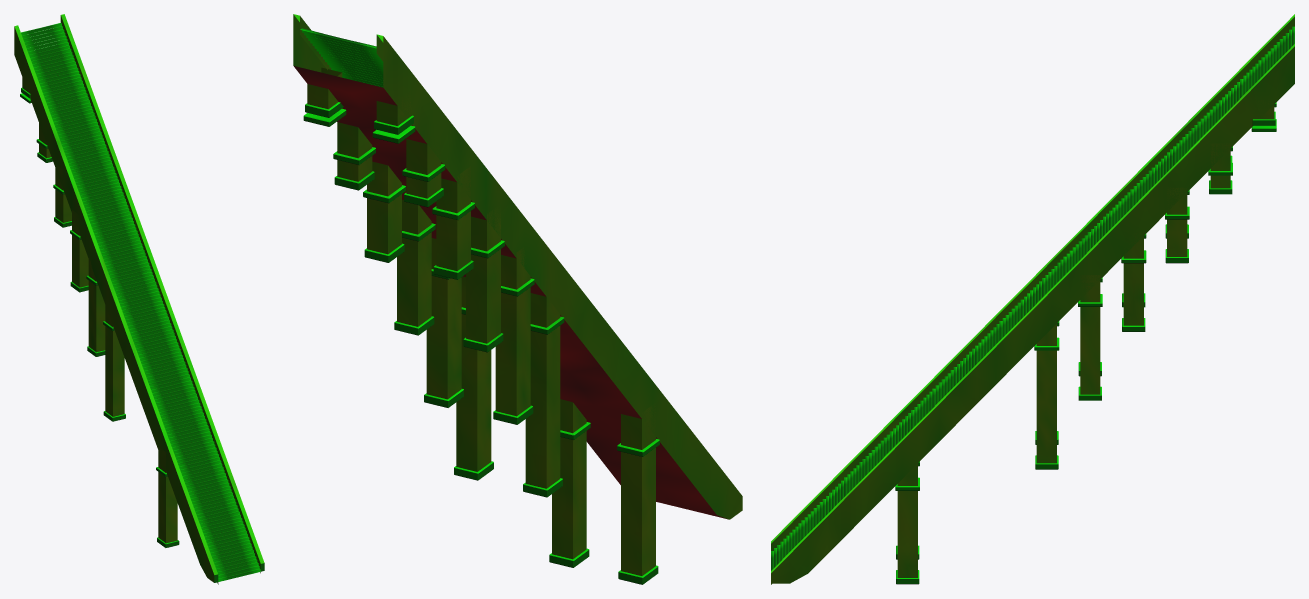
The model's file is flying_stair.glb.
3 renders of one model, left to right at view 1: azimuth 30°, elevation 25°; view 2: azimuth 150°, elevation 25°; view 3: azimuth 270°, elevation 25°, orthographic. The views are drawn at different scales.
Visible parts, largest first — view 1: flying_stair; view 2: flying_stair; view 3: flying_stair.
Boxes of the visible parts, left/top/right/bottom form: flying_stair: left=14, top=14, right=264, bottom=584; flying_stair: left=293, top=14, right=742, bottom=584; flying_stair: left=771, top=14, right=1294, bottom=584.
Size of what is drawn, in the model's own units: 6.36 by 47.22 by 41.42.
